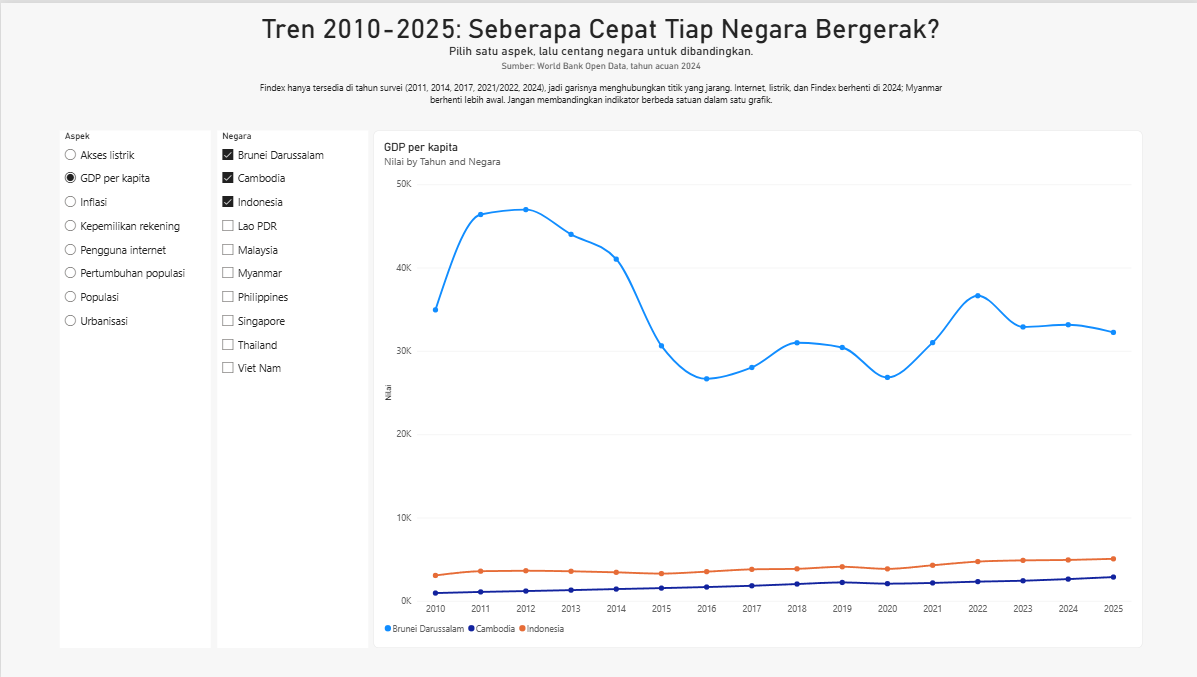

The page's visual inventory and layout, read from the dashboard file:
{"tool":"powerbi","page":{"name":"5. Tren","canvas":[1920,1080],"ordinal":4},"visuals":[{"type":"textbox","box":[0,16,1920,52],"z":0},{"type":"textbox","box":[0,90,1920,24],"z":1000},{"type":"textbox","box":[398,126,1124,46],"z":2000},{"type":"textbox","box":[0,66.8,1920,24],"z":3000},{"type":"slicer","fields":{"Values":["bobot.nama"]},"box":[94,204,241.7,828],"z":4000,"group":"g1"},{"type":"slicer","fields":{"Values":["skor_negara.negara_nama"]},"box":[345,204,241.7,828],"z":5000,"group":"g1"},{"type":"lineChart","fields":{"Category":["wb_indikator.tahun"],"Series":["negara_indikator.negara_nama"],"Y":["Max(wb_indikator.nilai)"]},"box":[596,204,1230,828],"z":6000,"group":"g1"},{"type":"group","id":"g1","title":"Group 1","box":[94,204,1732,828],"z":6001}]}

Visuals, with their boxes in screenshot pixels (x1, y1, x2, y2), scaled from the page's 1920x1080 canvas onto the 1197x677 screenshot:
textbox: 0,10,1196,43
textbox: 0,56,1196,71
textbox: 248,79,949,108
textbox: 0,42,1196,57
slicer - bobot.nama: 59,128,209,647
slicer - skor_negara.negara_nama: 215,128,366,647
lineChart - wb_indikator.tahun x negara_indikator.negara_nama: 372,128,1138,647
"Group 1" group: 59,128,1138,647
